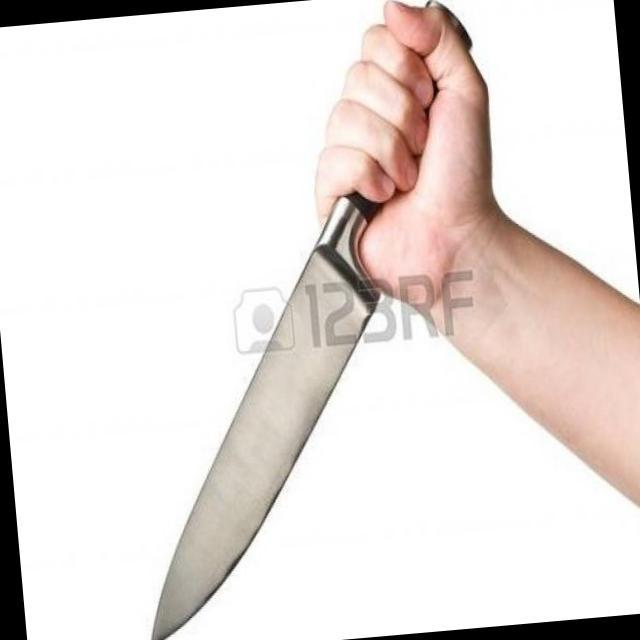Knife: (95, 69, 482, 640)
